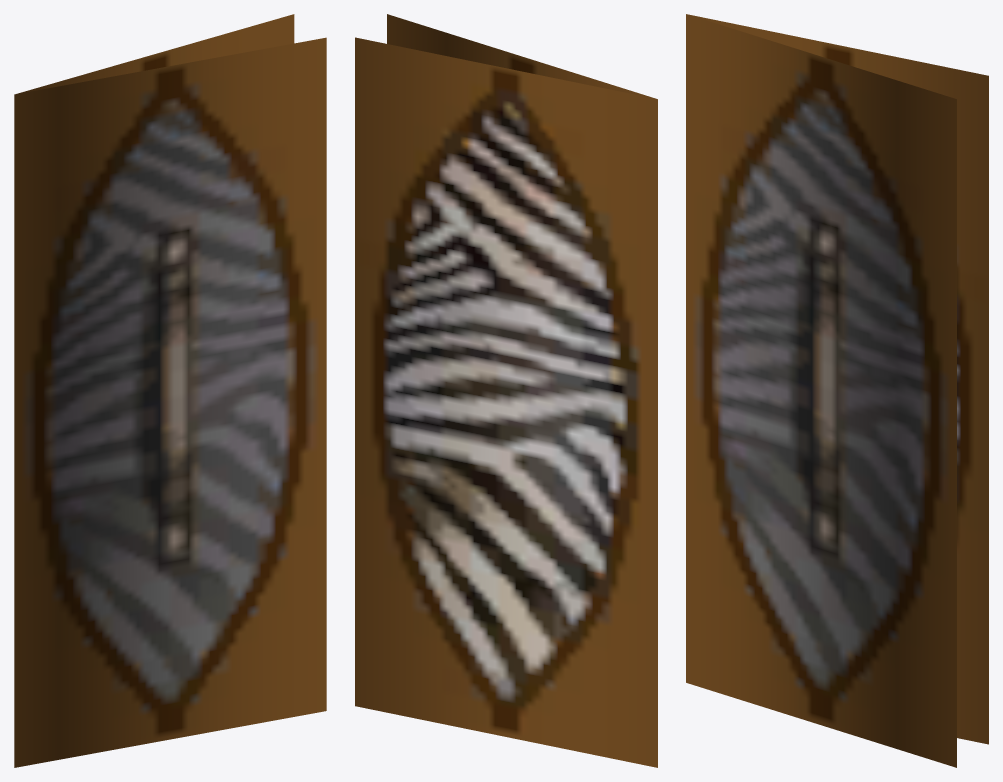
File: attachments_a_shields_nubian.glb
3 views of the same model, side by side, from view 1: azimuth 30°, elevation 25°; view 2: azimuth 150°, elevation 25°; view 3: azimuth 330°, elevation 25° (orthographic).
Parts seen in each view (by area): view 1: MeshRoot; view 2: MeshRoot; view 3: MeshRoot.
Part boxes in pixels (x1,y1,x2,y2): MeshRoot: (14,14,326,767); MeshRoot: (355,14,657,767); MeshRoot: (686,14,988,767).
Bounding box in the file's own units: 0.707 × 1.55 × 0.1348.
1 material, 1 textured.
